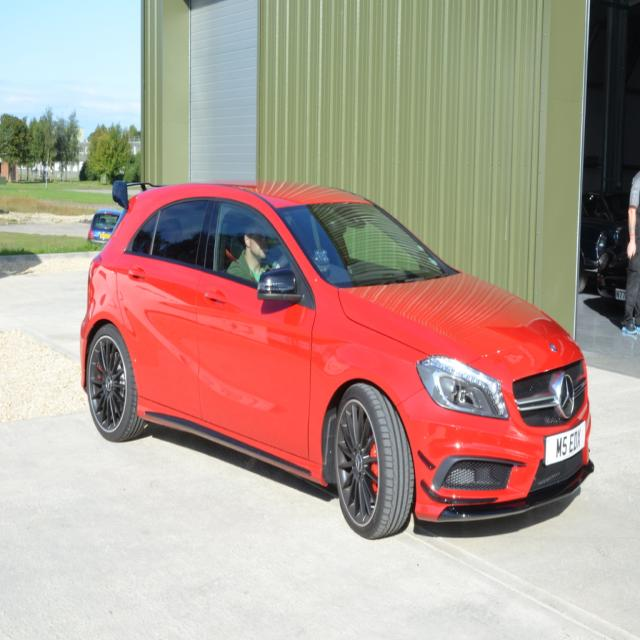Car: (79, 180, 591, 540), (580, 192, 626, 293), (596, 215, 632, 305), (90, 212, 122, 242)
